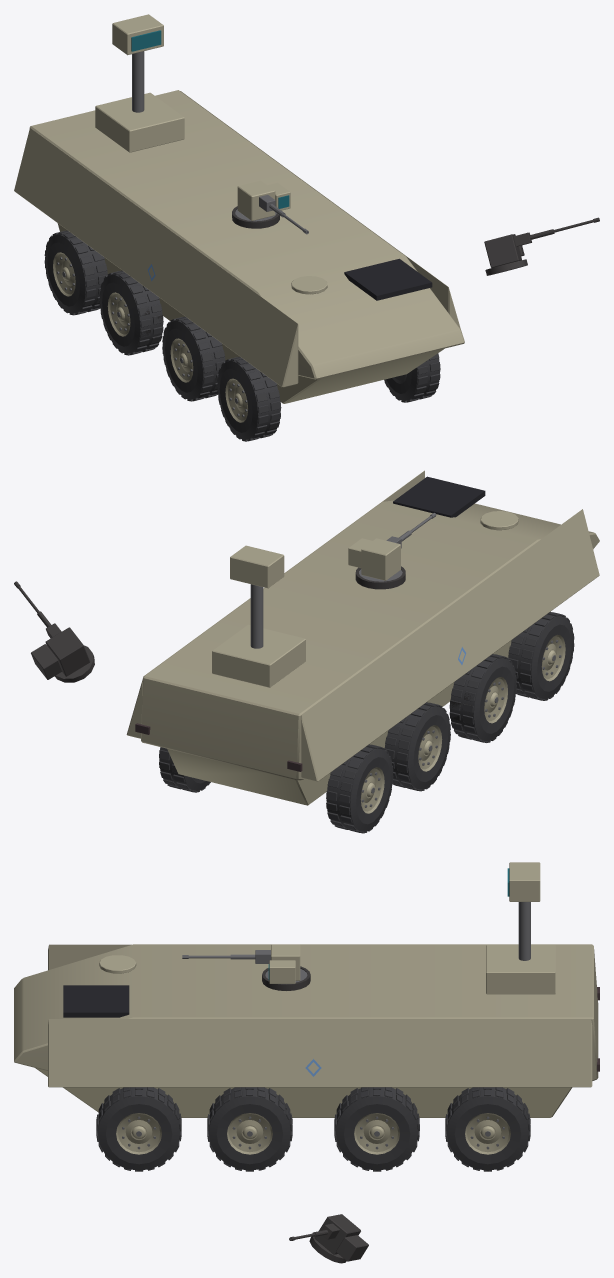
The model's file is reconVehicle__argus.glb.
3 renders of one model, top to bottom at view 1: azimuth 30°, elevation 25°; view 2: azimuth 150°, elevation 25°; view 3: azimuth 270°, elevation 25°, orthographic. The views are drawn at different scales.
Parts seen in each view (by area): view 1: Hull_Mesh, Wheel_L3_Mesh, Wheel_L1_Mesh, Wheel_L2_Mesh, Wheel_L0_Mesh, Wreck, Wheel_R3_Mesh, Turret_Mesh; view 2: Hull_Mesh, Wheel_L0_Mesh, Wheel_L2_Mesh, Wheel_L3_Mesh, Wheel_L1_Mesh, Wreck, Turret_Mesh, Wheel_R0_Mesh; view 3: Hull_Mesh, Wheel_R1_Mesh, Wheel_R2_Mesh, Wheel_R3_Mesh, Wheel_R0_Mesh, Wreck, Turret_Mesh, Gun_Mesh.
Boxes of the visible parts, <box> form: Hull_Mesh: <box>14,14,464,403</box>; Wheel_L3_Mesh: <box>217,356,281,441</box>; Wheel_L1_Mesh: <box>99,270,163,355</box>; Wheel_L2_Mesh: <box>162,316,225,401</box>; Wheel_L0_Mesh: <box>44,230,107,315</box>; Wreck: <box>97,206,599,439</box>; Wheel_R3_Mesh: <box>384,353,440,402</box>; Turret_Mesh: <box>235,180,290,221</box>; Hull_Mesh: <box>126,470,599,805</box>; Wheel_L0_Mesh: <box>326,744,393,833</box>; Wheel_L2_Mesh: <box>449,654,516,742</box>; Wheel_L3_Mesh: <box>508,612,574,700</box>; Wheel_L1_Mesh: <box>384,702,450,791</box>; Wreck: <box>14,566,559,830</box>; Turret_Mesh: <box>348,538,402,581</box>; Wheel_R0_Mesh: <box>159,747,210,792</box>; Hull_Mesh: <box>14,862,599,1117</box>; Wheel_R1_Mesh: <box>334,1087,419,1171</box>; Wheel_R2_Mesh: <box>207,1087,292,1171</box>; Wheel_R3_Mesh: <box>96,1087,181,1171</box>; Wheel_R0_Mesh: <box>445,1087,530,1171</box>; Wreck: <box>105,966,502,1263</box>; Turret_Mesh: <box>265,944,307,983</box>; Gun_Mesh: <box>182,950,270,963</box>.
Size of what is drawn, in the model's own units: 6.62 by 3.64 by 7.56.
